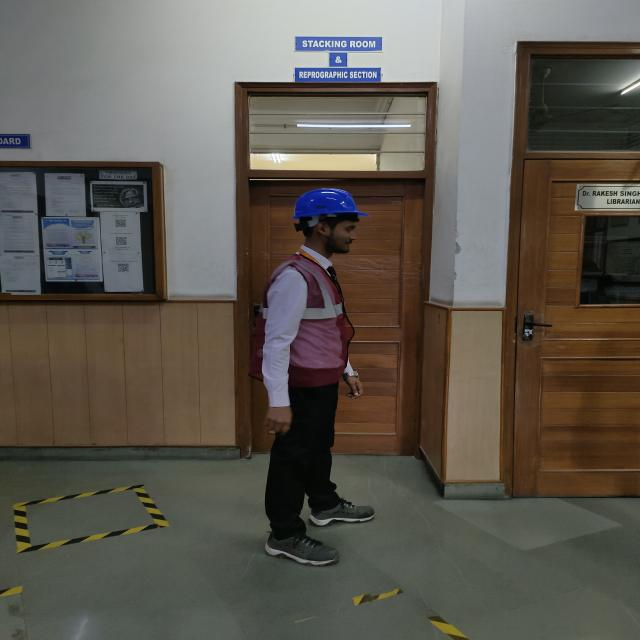safe: (261, 188, 362, 566)
